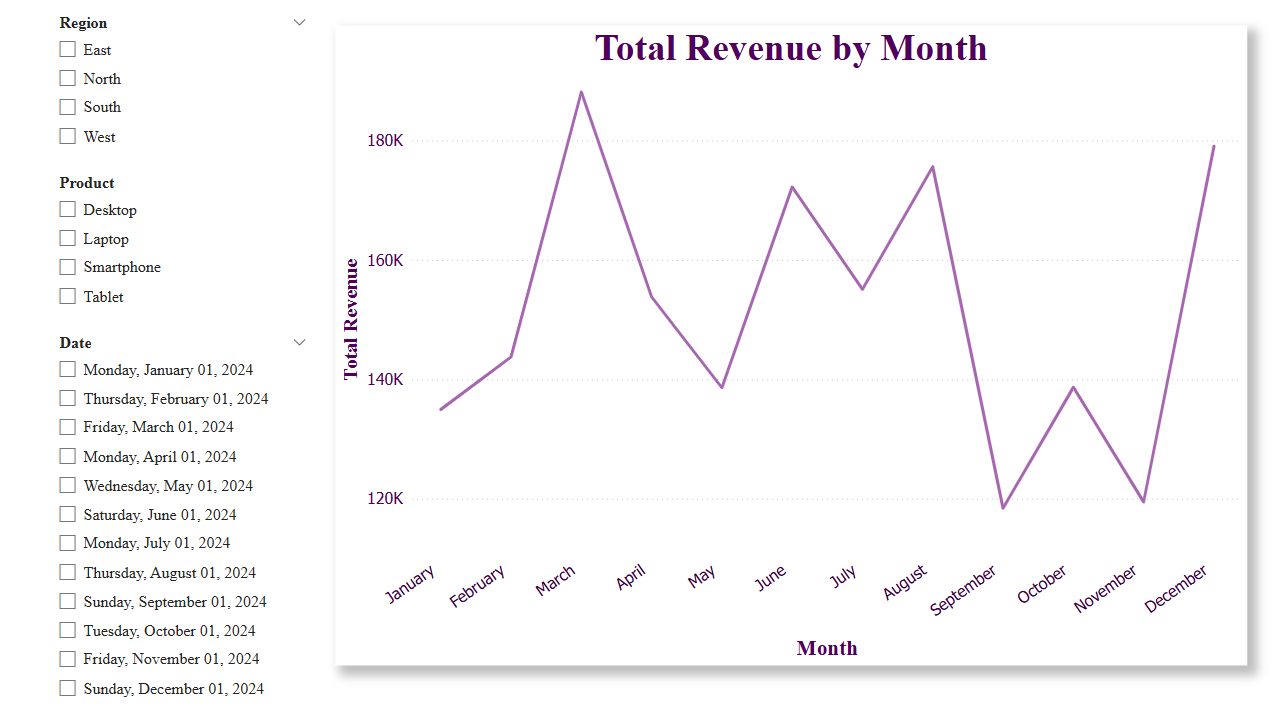

The page's visual inventory and layout, read from the dashboard file:
{"tool":"powerbi","page":{"name":"Page 5","canvas":[1280,720],"ordinal":4},"visuals":[{"type":"lineChart","fields":{"Category":["Sheet1.Date.Variation.Date Hierarchy.Month"],"Y":["Sheet1.Total Revenue"]},"box":[336,32,912,640],"z":0},{"type":"slicer","fields":{"Values":["Sheet1.Date"]},"box":[48,336,272,384],"z":1000},{"type":"slicer","fields":{"Values":["Sheet1.Product"]},"box":[48,176,272,160],"z":2000},{"type":"slicer","fields":{"Values":["Sheet1.Region"]},"box":[48,16,272,160],"z":3000}]}

Visuals, with their boxes in screenshot pixels (x1, y1, x2, y2), scaled from the page's 1280x720 canvas onto the 1275x706 screenshot:
lineChart - Sheet1.Date.Variation.Date Hierarchy.Month x Sheet1.Total Revenue: rect(335, 31, 1243, 659)
slicer - Sheet1.Date: rect(48, 329, 319, 705)
slicer - Sheet1.Product: rect(48, 173, 319, 329)
slicer - Sheet1.Region: rect(48, 16, 319, 173)
